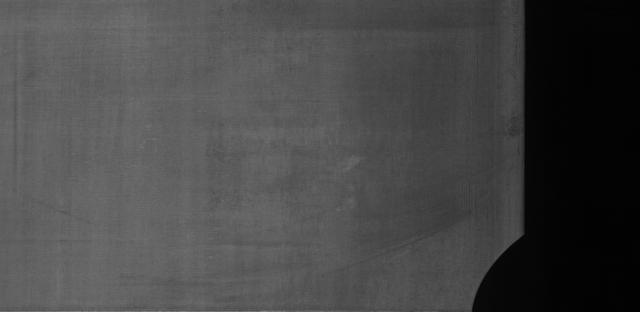crescent_gap: (458, 226, 533, 312)
